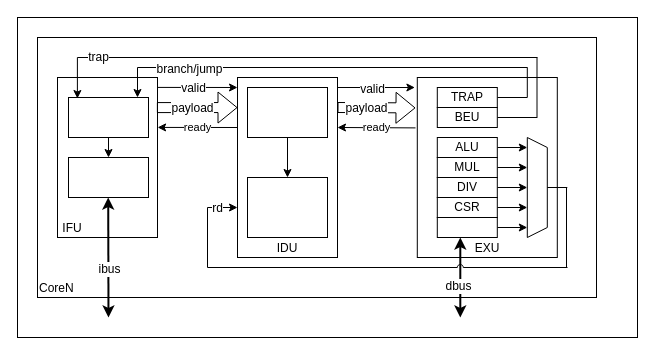
Image size: 655x355. Some labels were removed from this diagram. The shapes that lost their labels are listed below. From the top down, each one's centre as x and y in pixels, then its label:
At point (108, 117): "PC".
At point (287, 112): "Decoder".
At point (108, 177): "ibus ctrl".
At point (287, 207): "RegFile".
At point (466, 227): "LSU".
